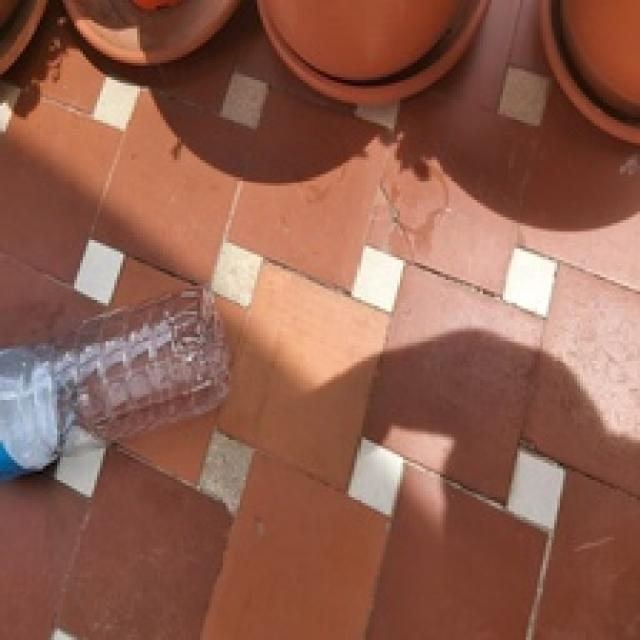Plastic: (0, 282, 236, 483)
